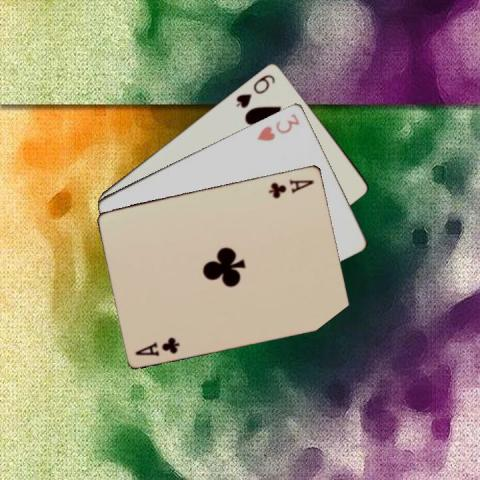3h: (254, 110, 301, 142)
6s: (233, 71, 277, 109)
Ac: (266, 176, 315, 199), (133, 334, 181, 357)
